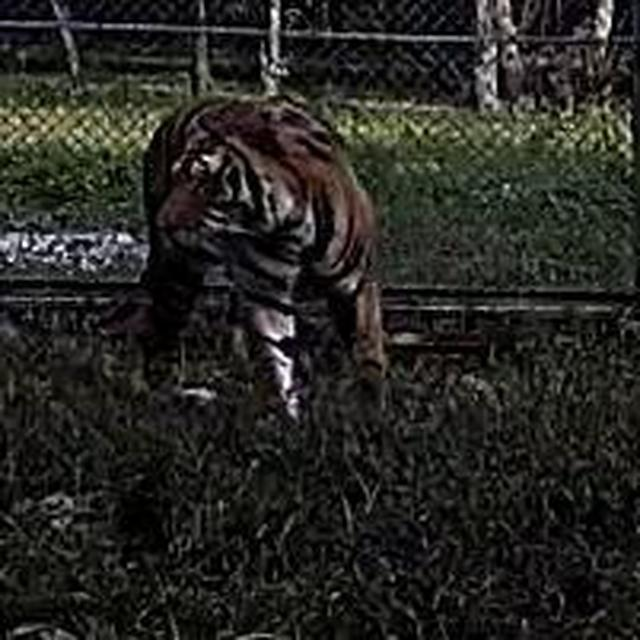tiger: (96, 88, 393, 431)
